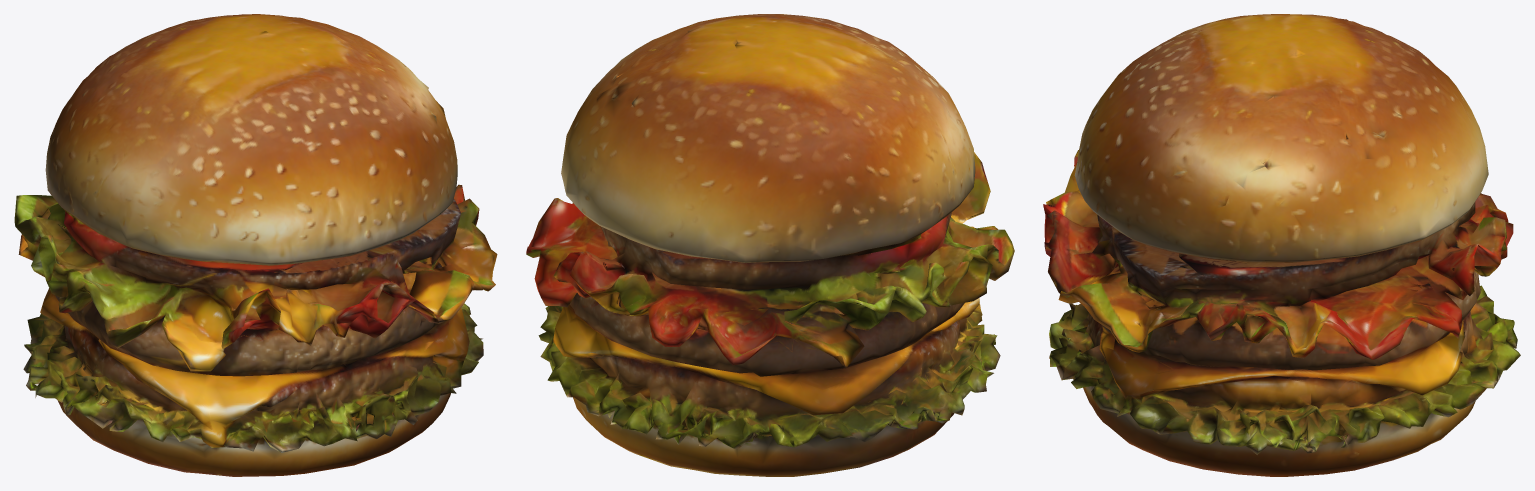
File: burger.glb
3 views of the same model, side by side, from view 1: azimuth 30°, elevation 25°; view 2: azimuth 150°, elevation 25°; view 3: azimuth 270°, elevation 25° (orthographic).
Visible parts, largest first — view 1: Mesh1_Material.001_0; view 2: Mesh1_Material.001_0; view 3: Mesh1_Material.001_0.
Boxes of the visible parts, x1,y1,x2,y2 form: Mesh1_Material.001_0: [14, 14, 497, 476]; Mesh1_Material.001_0: [526, 14, 1014, 476]; Mesh1_Material.001_0: [1043, 14, 1520, 476].
Size of the model in its own units: 1.99 by 1.66 by 2.
1 material, 1 textured.
